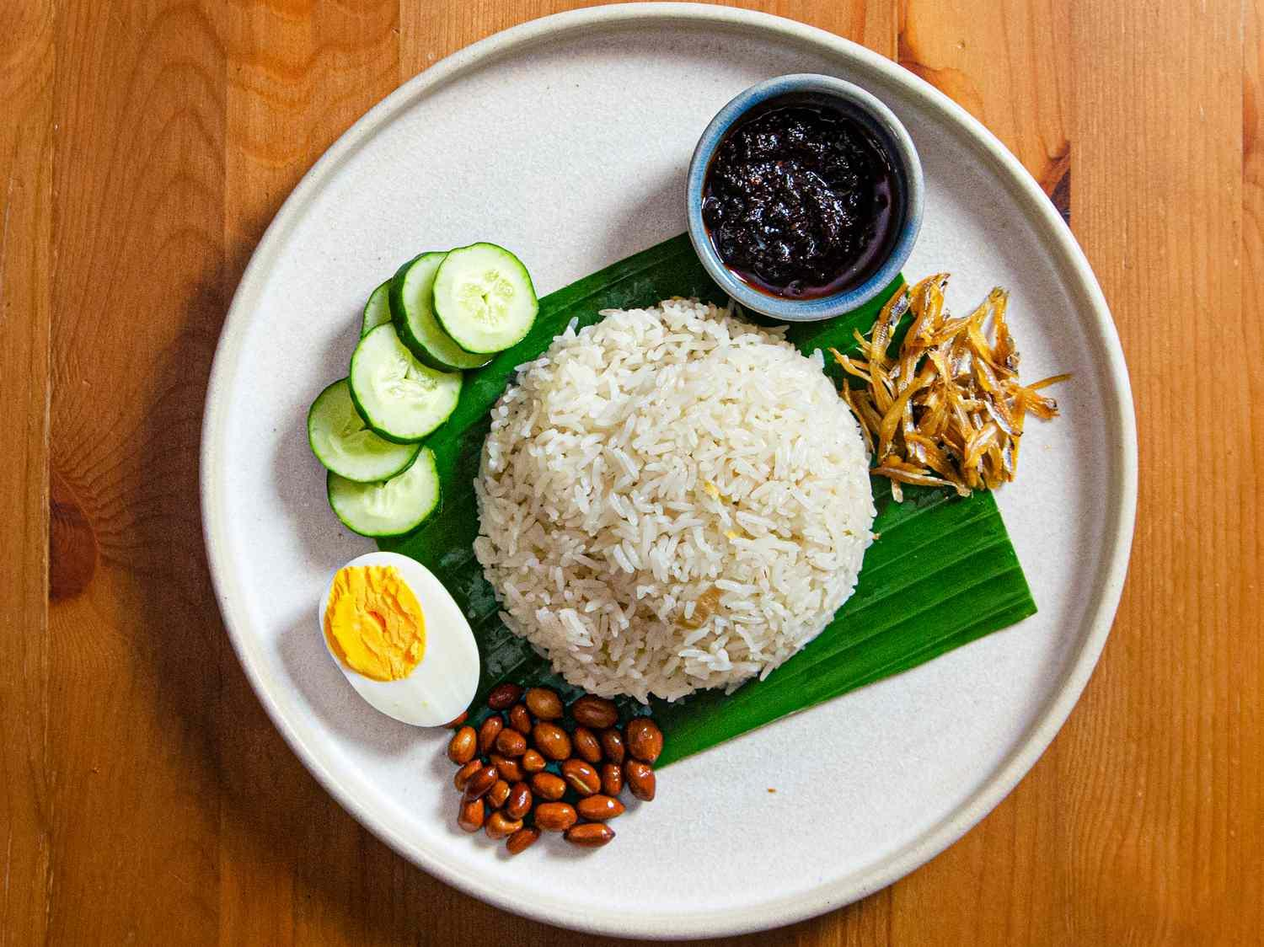Anchovies: (846, 276, 1059, 490)
Boiled-Egg: (319, 554, 482, 733)
Cucumber: (308, 243, 538, 538)
Peanuts: (446, 688, 667, 857)
Rice: (474, 310, 870, 703)
Sambal: (690, 81, 916, 313)
